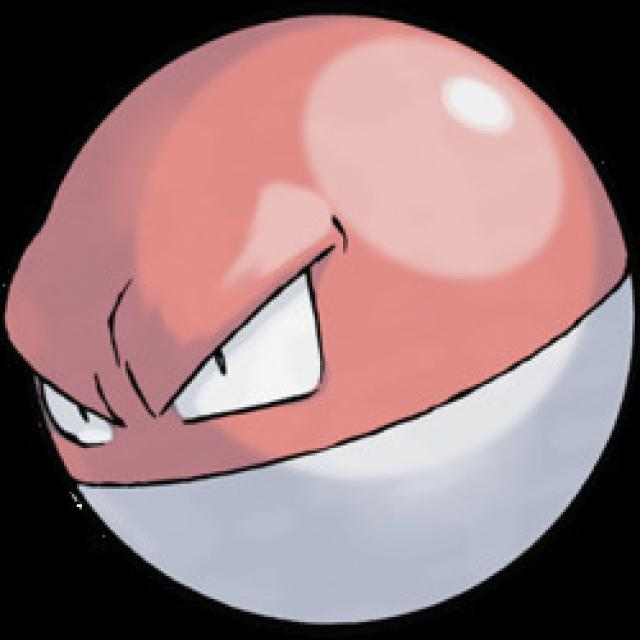Voltorb: (2, 0, 640, 632)
